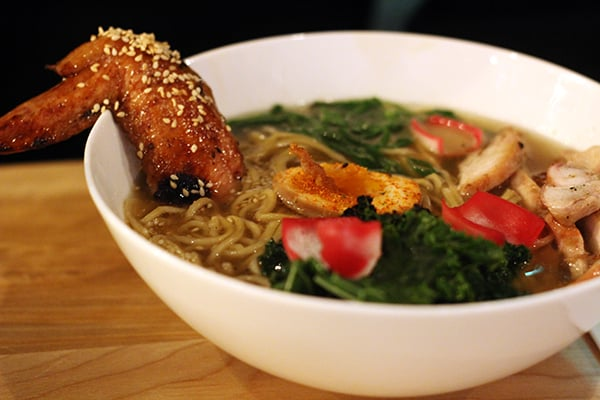curry: (289, 206, 532, 305)
sushi: (80, 25, 600, 393)
